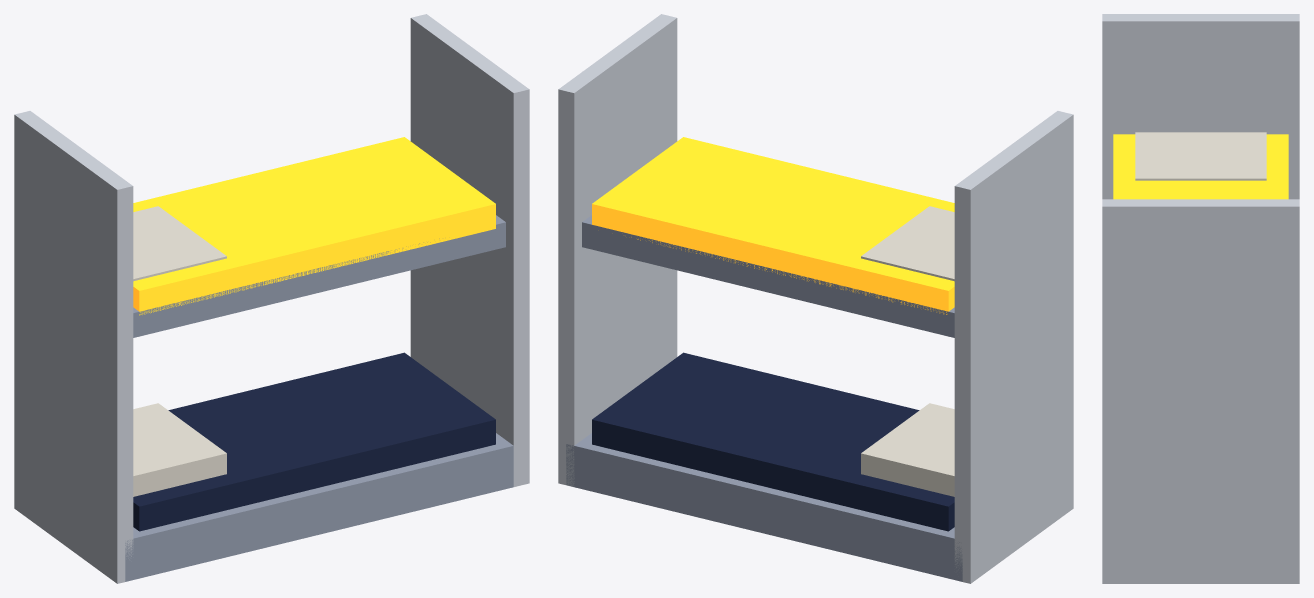
File: stationpack-crew-bunk.glb
3 renders of one model, left to right at view 1: azimuth 30°, elevation 25°; view 2: azimuth 150°, elevation 25°; view 3: azimuth 270°, elevation 25°, orthographic. The views are drawn at different scales.
Parts seen in each view (by area): view 1: crew_bunk; view 2: crew_bunk; view 3: crew_bunk.
Boxes of the visible parts, x1,y1,x2,y2 form: crew_bunk: [14, 14, 529, 583]; crew_bunk: [558, 14, 1073, 583]; crew_bunk: [1102, 14, 1299, 583].
Size of the model in its own units: 2.08 by 1.9 by 0.9.
